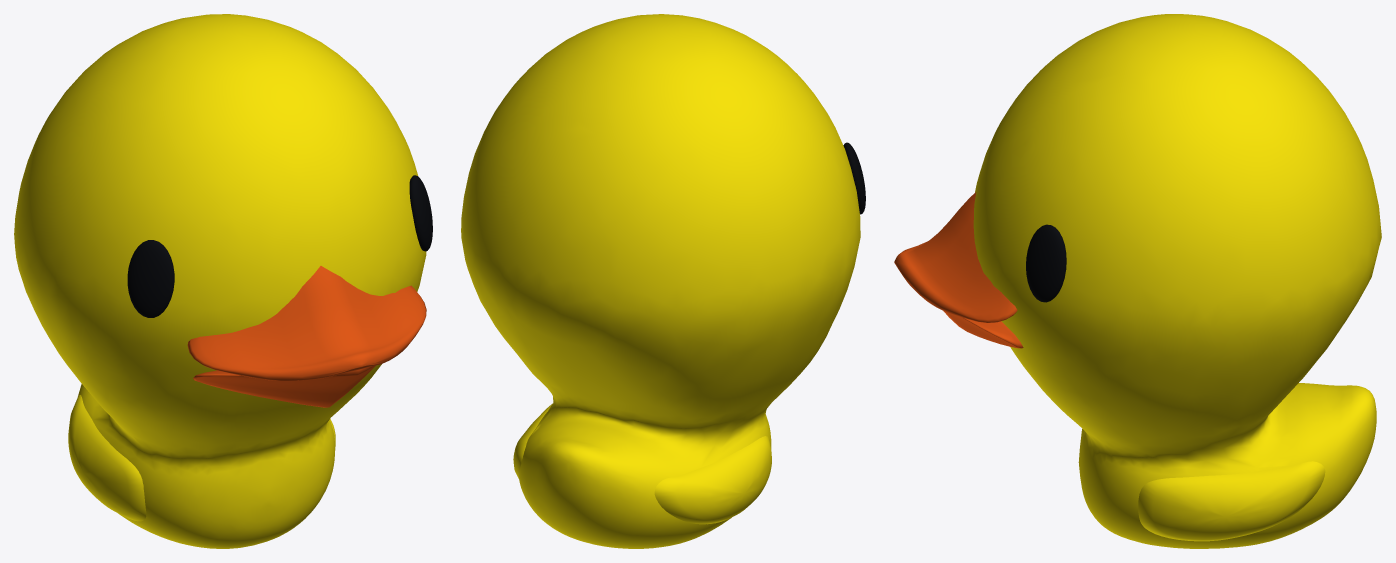
Rendered from RubberDuck_BigHead.fbx.
3 renders of one model, left to right at view 1: azimuth 30°, elevation 25°; view 2: azimuth 150°, elevation 25°; view 3: azimuth 270°, elevation 25°, orthographic. The views are drawn at different scales.
Parts seen in each view (by area): view 1: RubberDuck; view 2: RubberDuck; view 3: RubberDuck.
Boxes of the visible parts, x1,y1,x2,y2 form: RubberDuck: [14, 14, 432, 548]; RubberDuck: [461, 14, 865, 548]; RubberDuck: [894, 14, 1381, 548].
Bounding box in the file's own units: 0.2774 × 0.371 × 0.3289.
